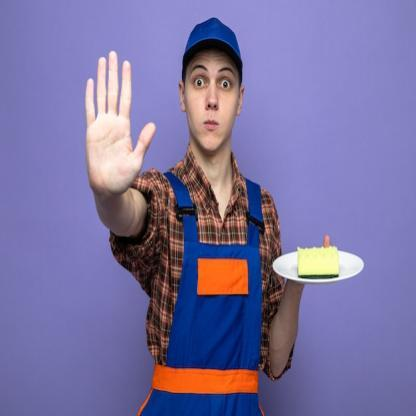stop: (80, 44, 158, 213)
